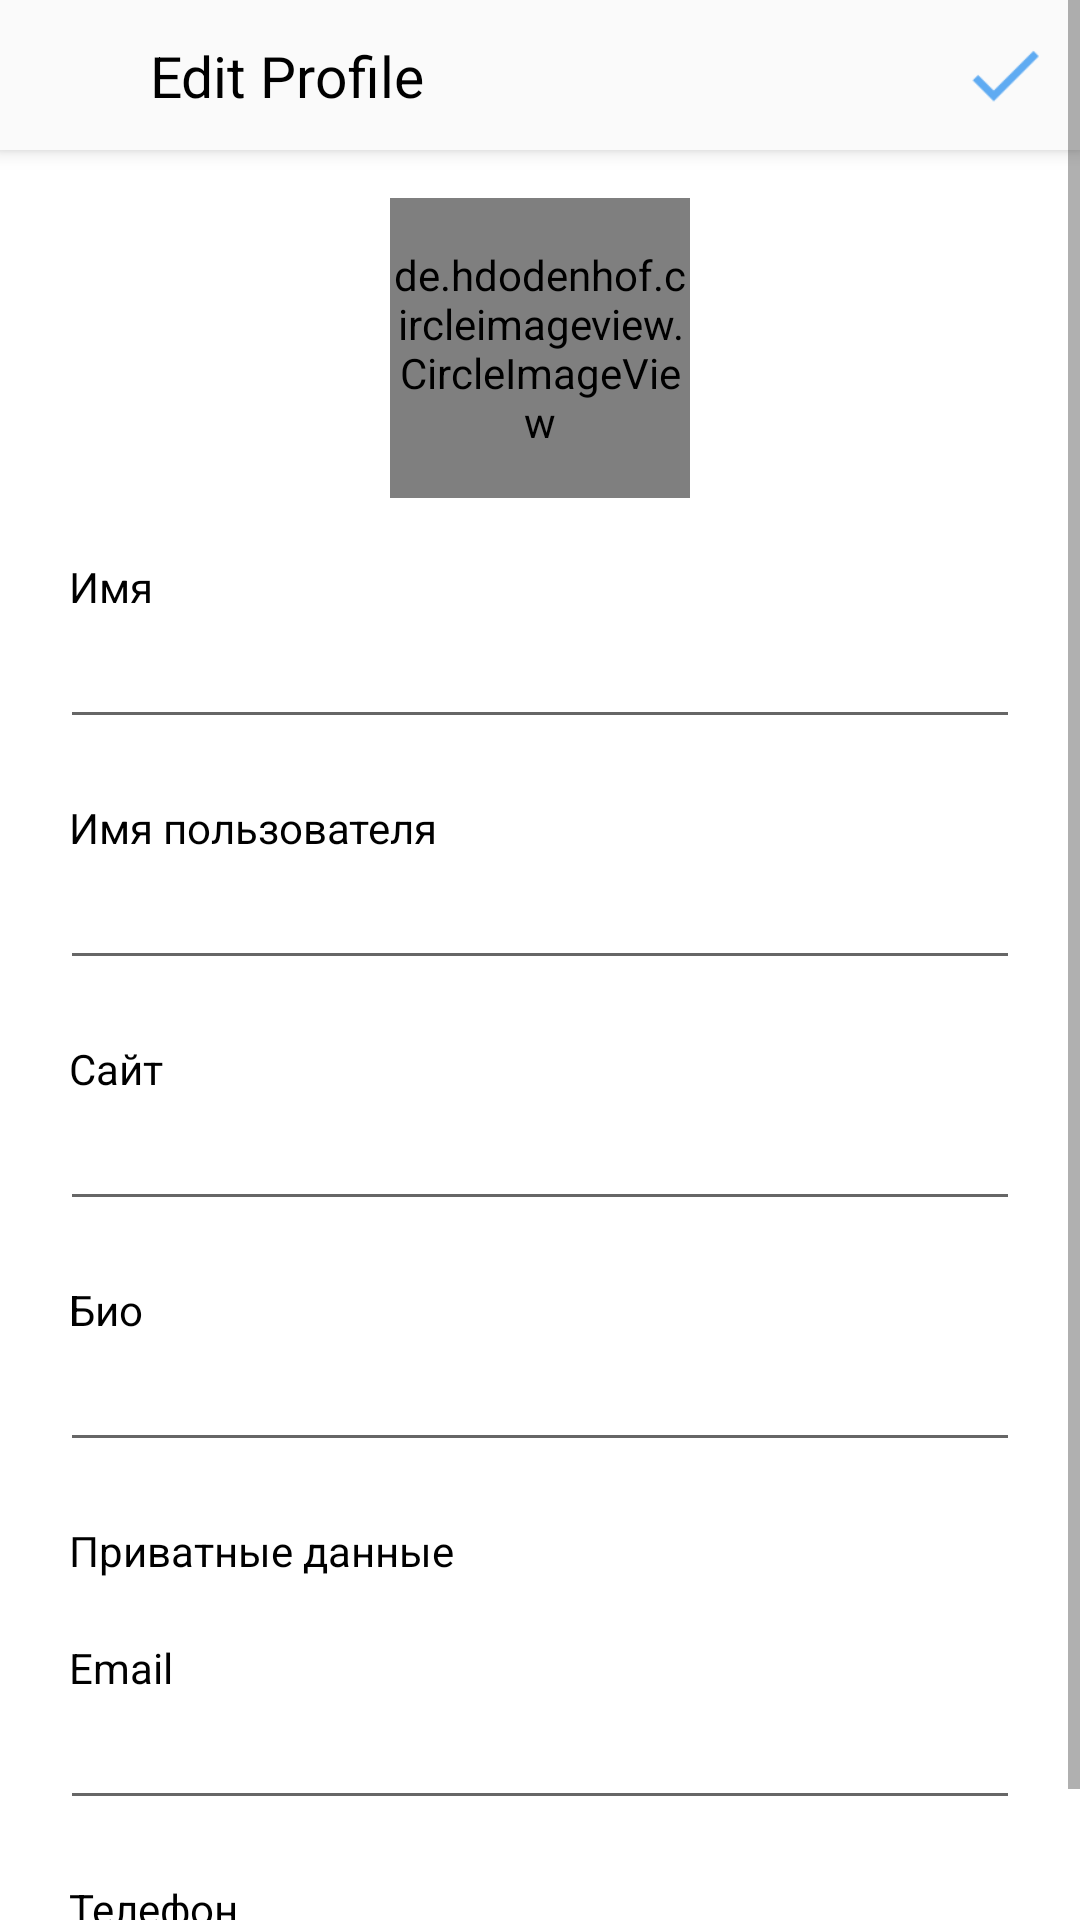

Screen size 1080*1920. Icon name, then its center in pixels as (x,y):
check: (1026,75)
